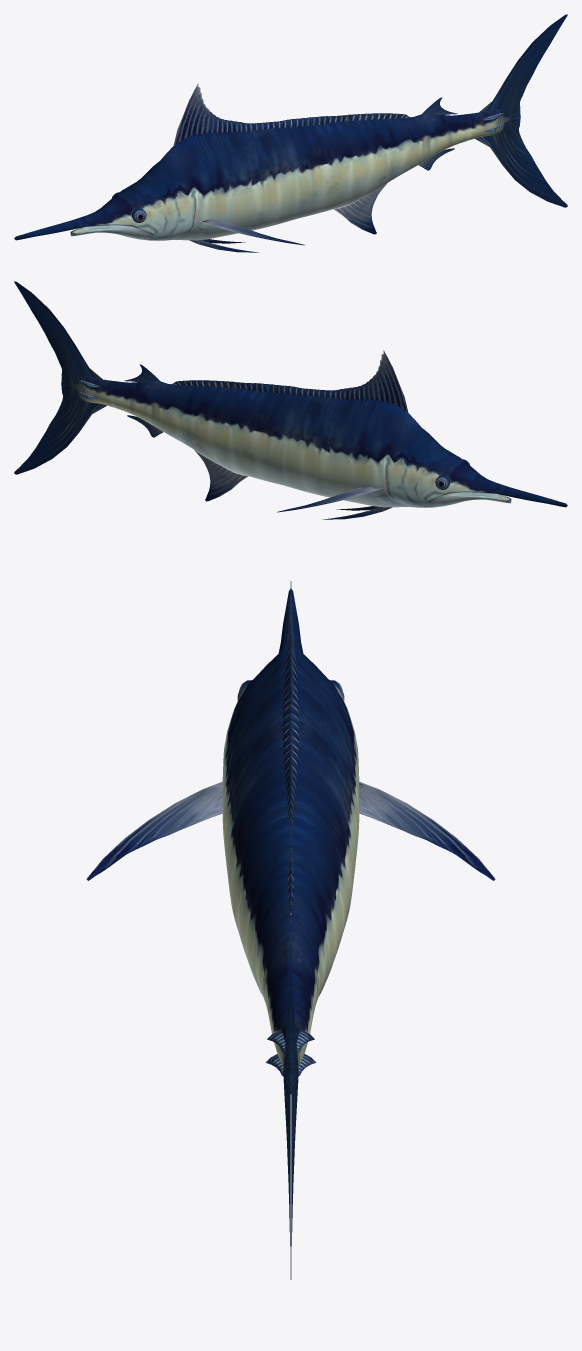
Rendered from sword_fish.glb.
3 views of the same model, one above another, from view 1: azimuth 30°, elevation 25°; view 2: azimuth 150°, elevation 25°; view 3: azimuth 270°, elevation 25° (orthographic). The views are drawn at different scales.
Visible parts, largest first — view 1: Object_2; view 2: Object_2; view 3: Object_2.
Boxes of the visible parts, x1,y1,x2,y2 form: Object_2: [14, 14, 567, 252]; Object_2: [14, 281, 567, 519]; Object_2: [86, 581, 495, 1279].
Size of the model in its own units: 4.55 by 1.68 by 1.45.
Materials: 1 (1 with a texture image).
